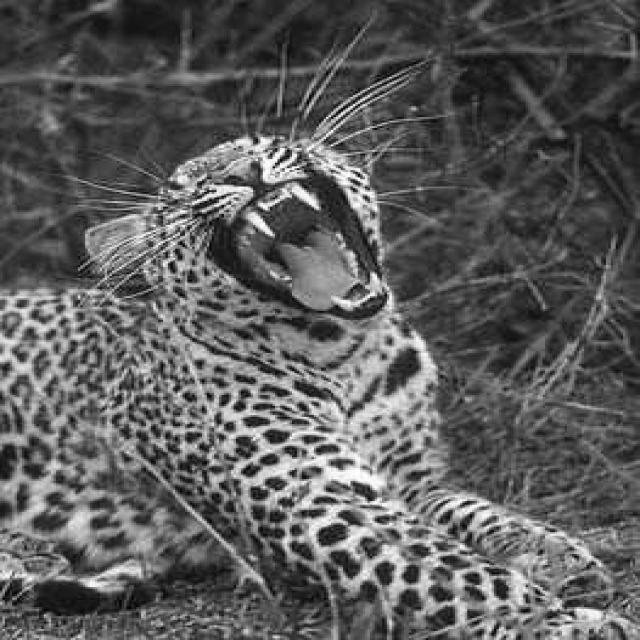Leopard: (0, 13, 638, 638)
